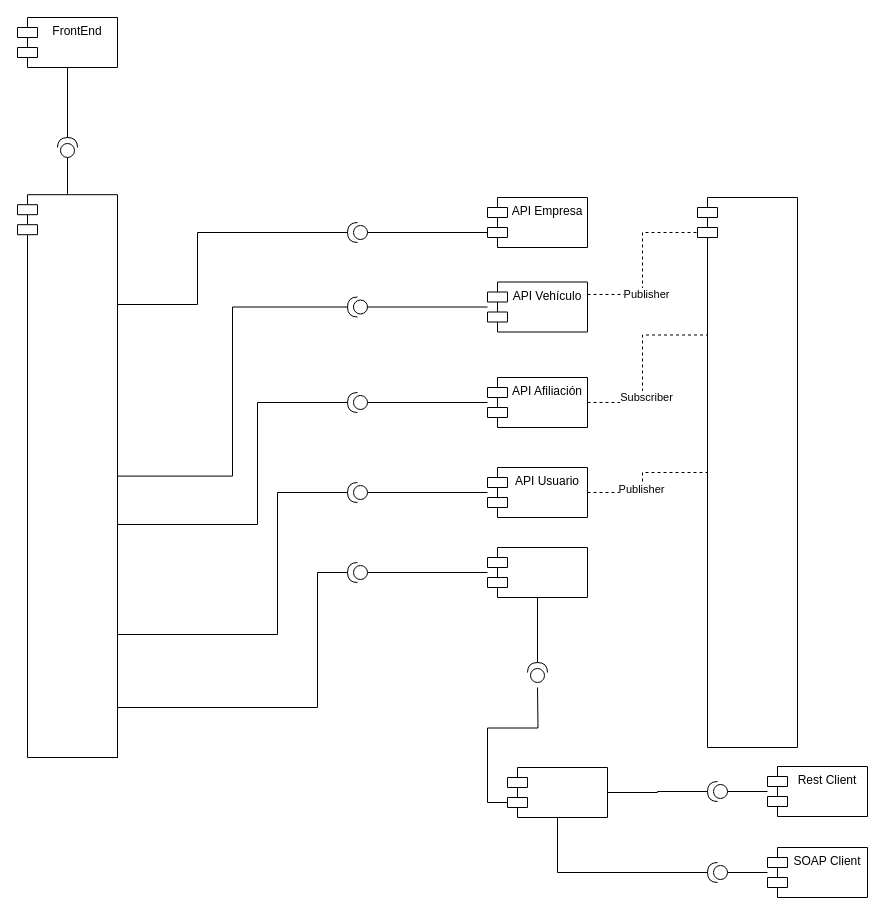
Some shapes in this 885 by 915 pixel diagram are drawn without their labels. Here are the shapes that lost their labels. From the top down, the centre of each, then its label:
At point (67, 476): "API Gateway".
At point (747, 472): "Apache Kafka".
At point (537, 572): "API Interoperabilidad".
At point (557, 792): "Apache Camel".
